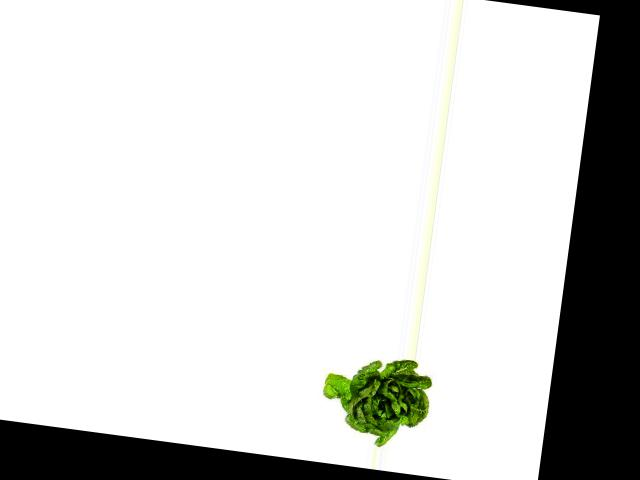lettuce: (313, 351, 435, 452)
